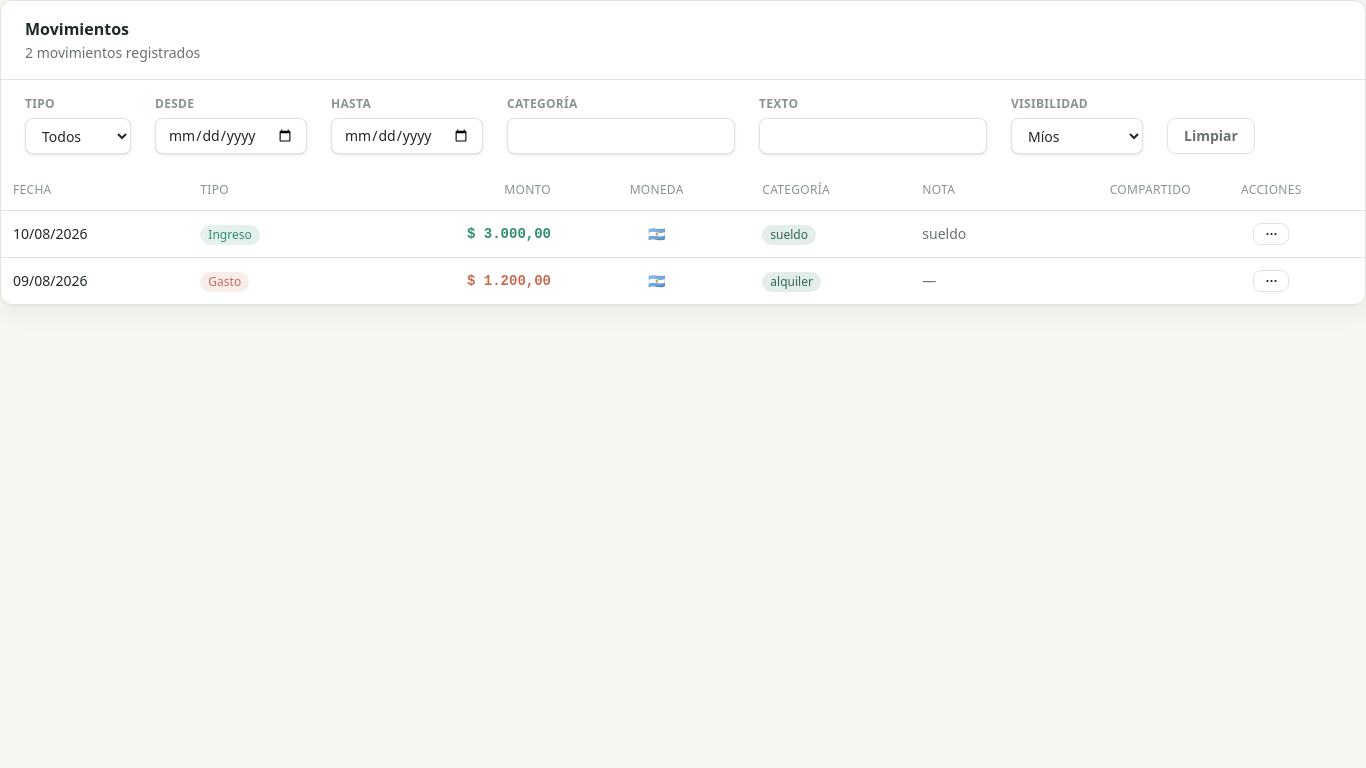
MovementList › cancelling the delete dialog does nothing
Expected: the table is shown, [1,170,1365,304]
Step 1. Click the button named "abrir acciones" → (1271, 234), box [1253,223,1289,245]
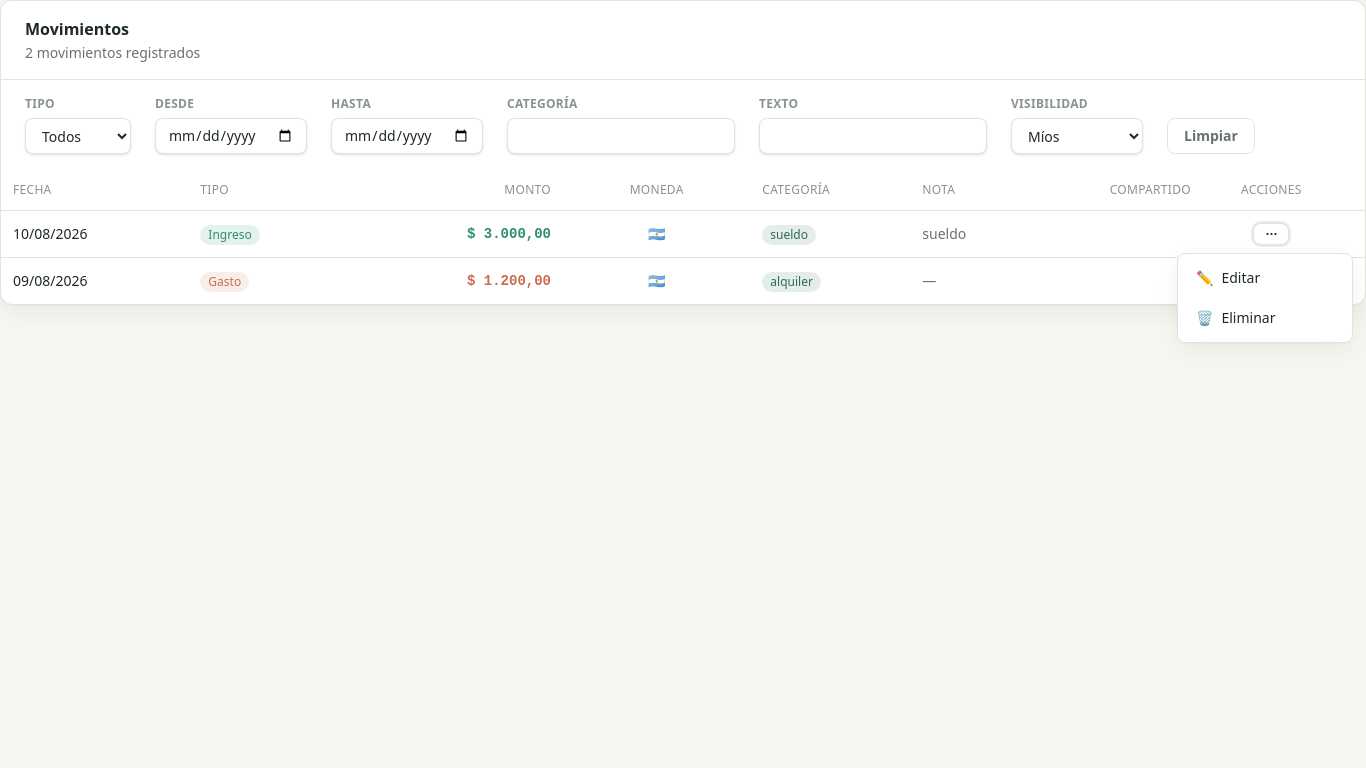
Step 2. Click the button "🗑️ Eliminar" → (1265, 318), box [1184,300,1346,336]
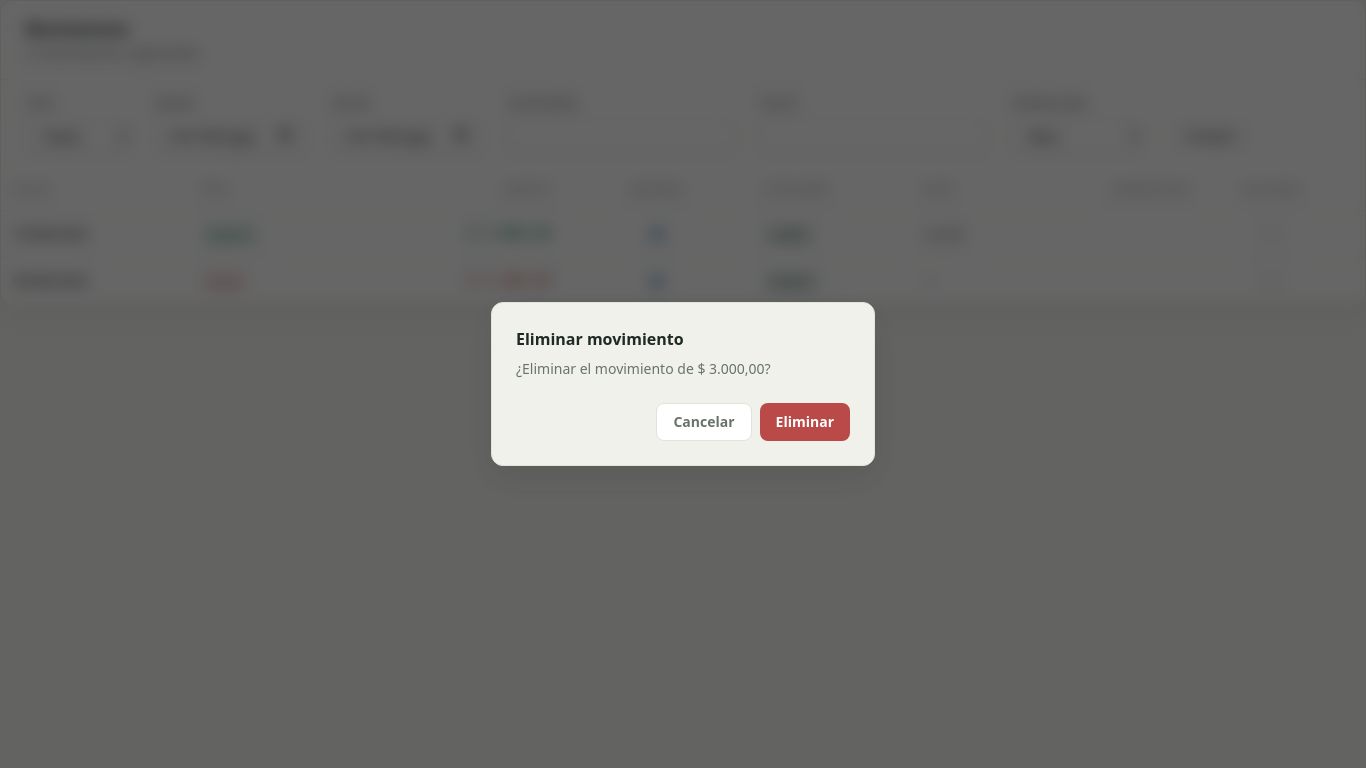
Step 3. Click the button "Cancelar" → (704, 422), box [656,403,752,441]
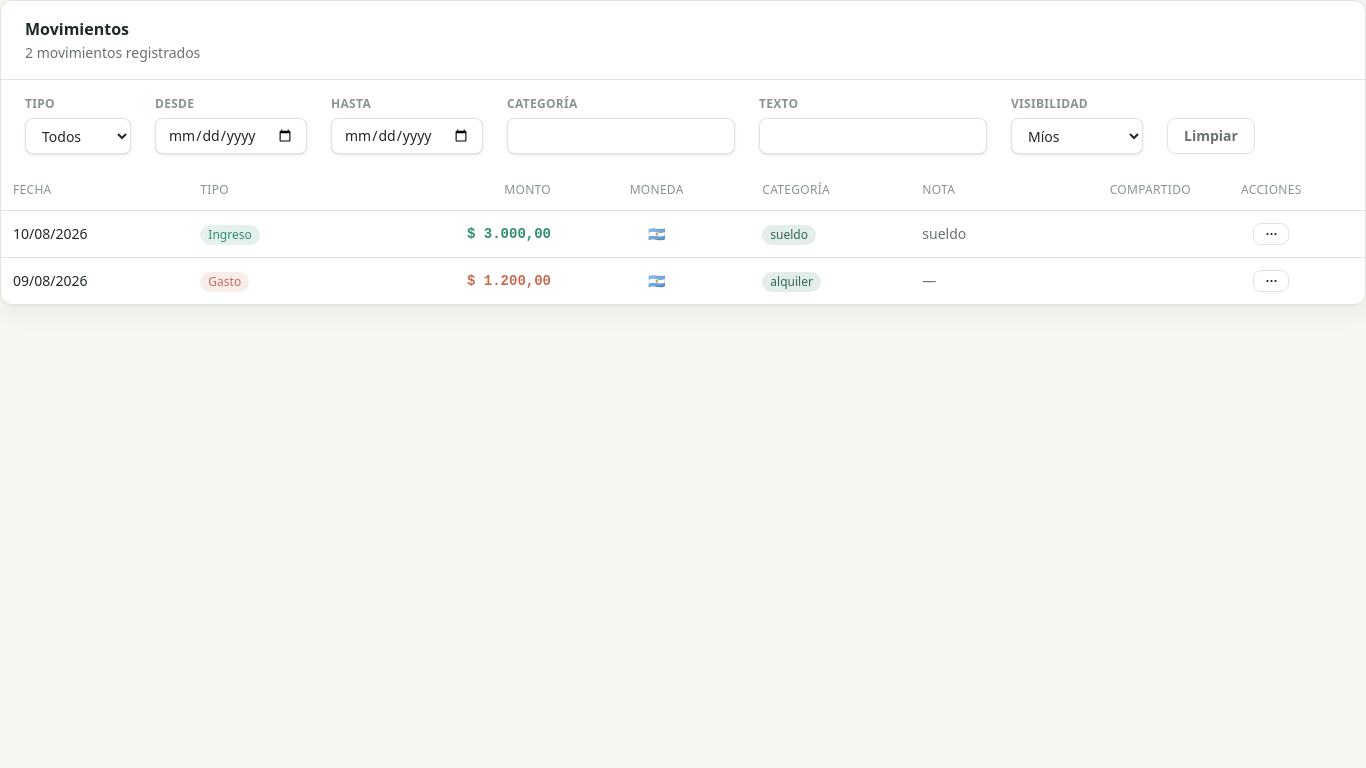
Expected: the number of rows is 3, [1,170,1365,210]; [1,210,1365,258]; [1,258,1365,304]
Expected: the dialog is gone
